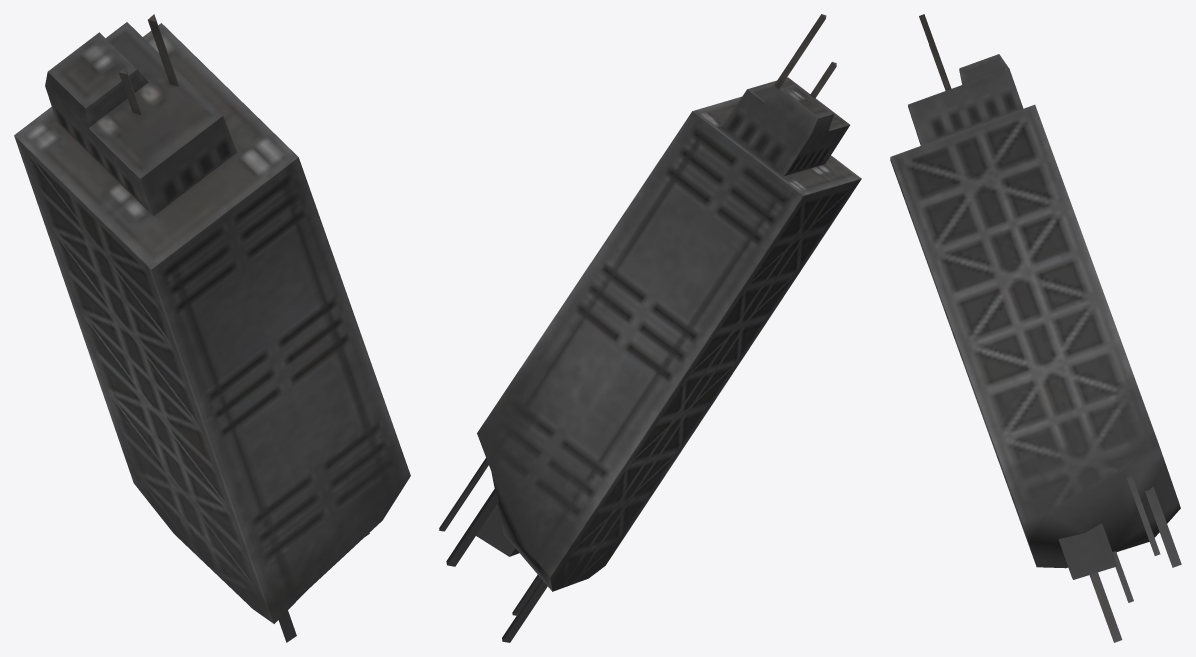
Rendered from skyBuildingAAA_pos_grp (2).fbx.
The picture shows the model from 3 angles, left to right: view 1: azimuth 30°, elevation 25°; view 2: azimuth 150°, elevation 25°; view 3: azimuth 270°, elevation 25°; orthographic projection. The views are drawn at different scales.
Parts seen in each view (by area): view 1: skyBuildingAAA_geo; view 2: skyBuildingAAA_geo; view 3: skyBuildingAAA_geo.
Part boxes in pixels (bbox=[...]): skyBuildingAAA_geo: bbox=[14, 14, 410, 642]; skyBuildingAAA_geo: bbox=[439, 14, 861, 642]; skyBuildingAAA_geo: bbox=[890, 14, 1181, 642].
Bounding box in the file's own units: 4.82 × 9.31 × 4.57.
